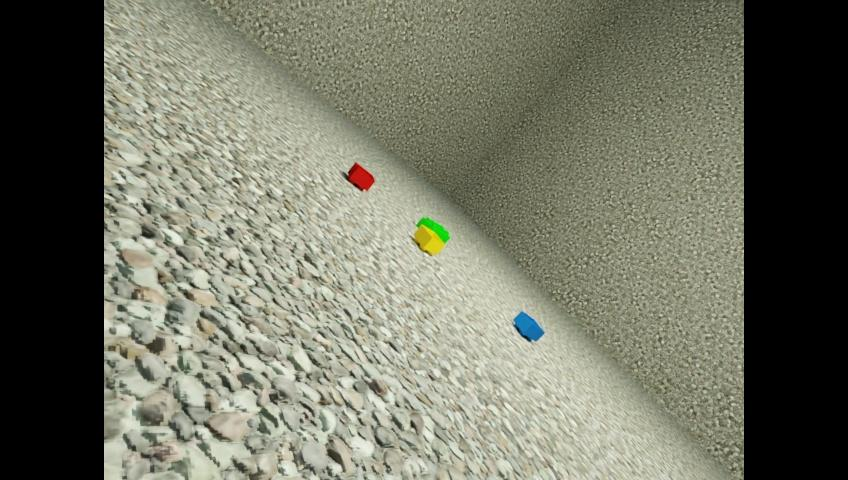2x2_blue: (513, 310, 544, 341)
2x2_red: (347, 161, 374, 191)
2x2_yellow: (413, 224, 444, 254)
4x2_green: (415, 216, 449, 243)
